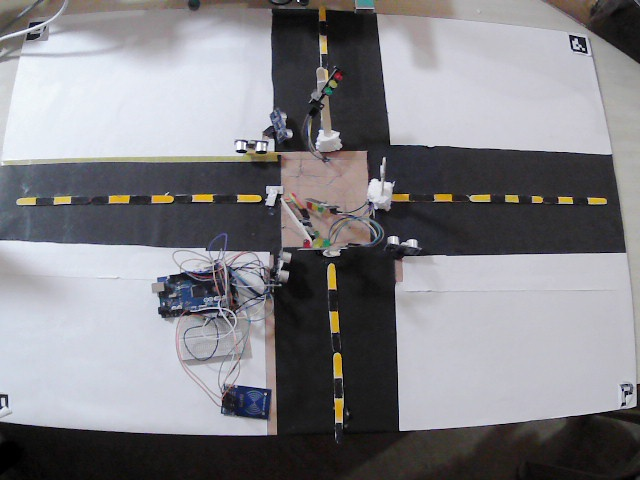aruco_marker: (569, 33, 591, 54), (618, 384, 635, 410), (0, 393, 15, 422), (28, 20, 47, 40)
mixed_lane: (321, 257, 347, 445), (390, 188, 609, 207), (9, 194, 267, 208), (313, 2, 333, 71)
traffic_light: (281, 194, 316, 240), (322, 64, 344, 108), (286, 231, 338, 249), (298, 199, 338, 213)
uno_breadboard: (150, 266, 243, 320), (171, 315, 248, 359), (218, 381, 270, 421), (265, 105, 294, 142), (389, 237, 434, 260), (270, 247, 292, 286), (231, 138, 273, 156)
yellow_strip: (331, 352, 344, 378), (236, 191, 263, 203), (192, 190, 214, 204), (317, 33, 331, 54), (152, 190, 172, 204), (11, 195, 33, 207), (324, 261, 335, 285), (334, 398, 345, 422), (587, 195, 609, 207), (558, 193, 576, 207), (317, 3, 331, 21), (107, 191, 125, 203), (391, 190, 409, 201), (471, 193, 489, 204), (52, 192, 68, 204), (330, 313, 341, 330), (505, 190, 519, 201), (532, 193, 544, 204)
